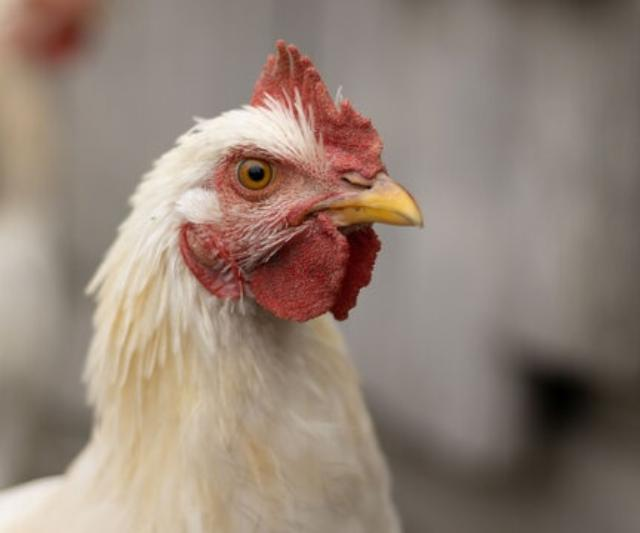Chicken: (0, 36, 425, 533)
